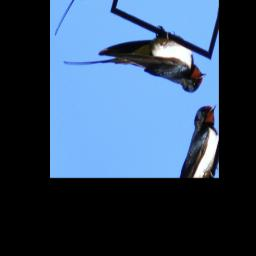Swallow: (61, 0, 210, 165)
